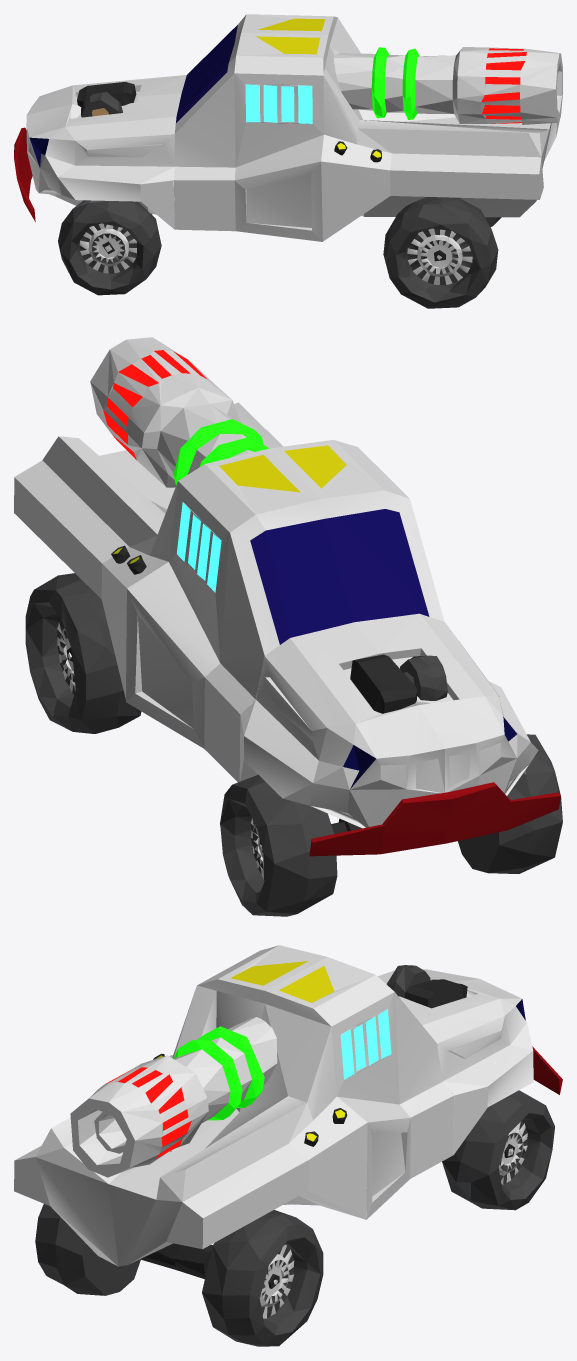
The model's file is car6_LOD2.fbx.
3 renders of one model, top to bottom at view 1: azimuth 30°, elevation 25°; view 2: azimuth 150°, elevation 25°; view 3: azimuth 270°, elevation 25°, orthographic. The views are drawn at different scales.
Parts seen in each view (by area): view 1: car6; view 2: car6; view 3: car6.
Boxes of the visible parts, box(x1,y1,x2,y2) form: car6: box(14, 14, 562, 308); car6: box(14, 337, 562, 916); car6: box(14, 945, 562, 1346).
Bounding box in the file's own units: 312 × 149 × 270.
